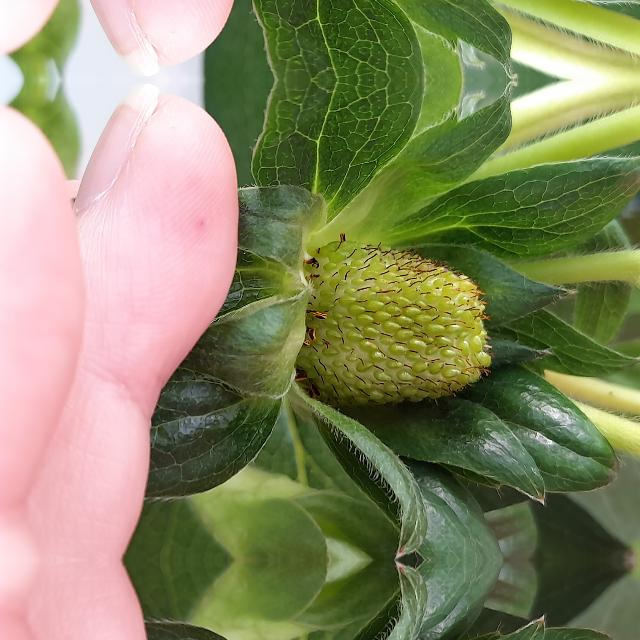Health_25: (296, 241, 490, 405)
